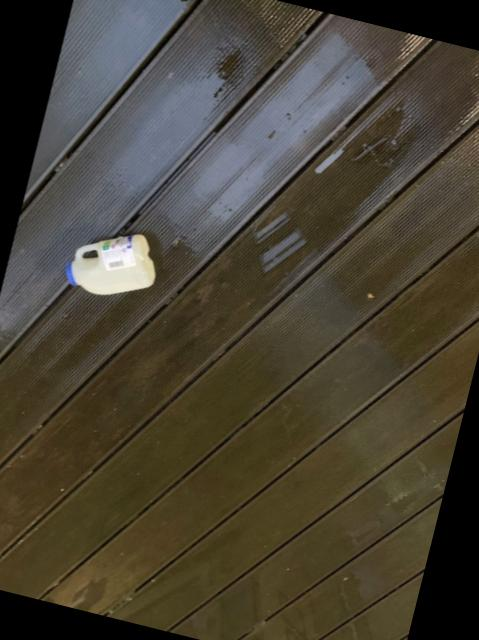plastic: (64, 235, 152, 294)
